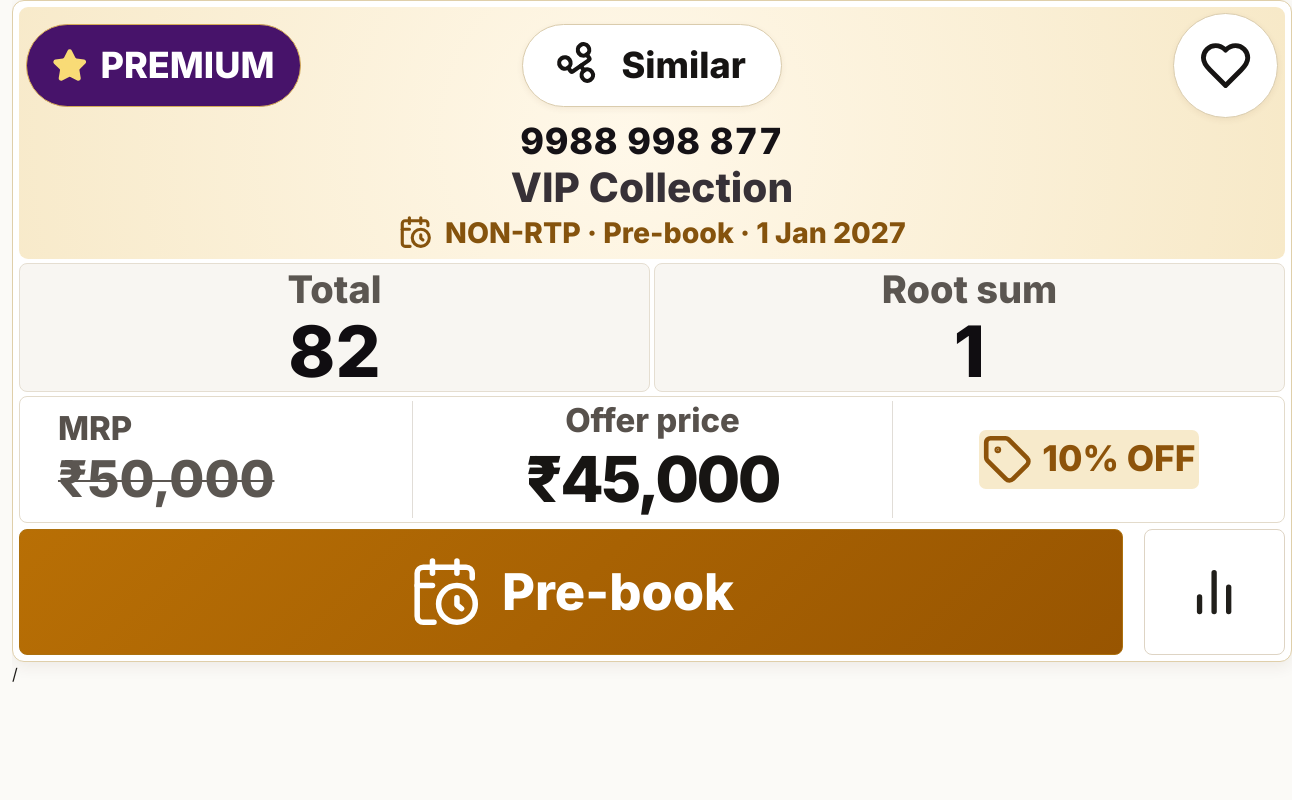
it: reference number card › keeps the NON_RTP purchase destination
Click the button "Pre-book" at x=571, y=592, box top-left (19, 529), bottom-right (1124, 655)
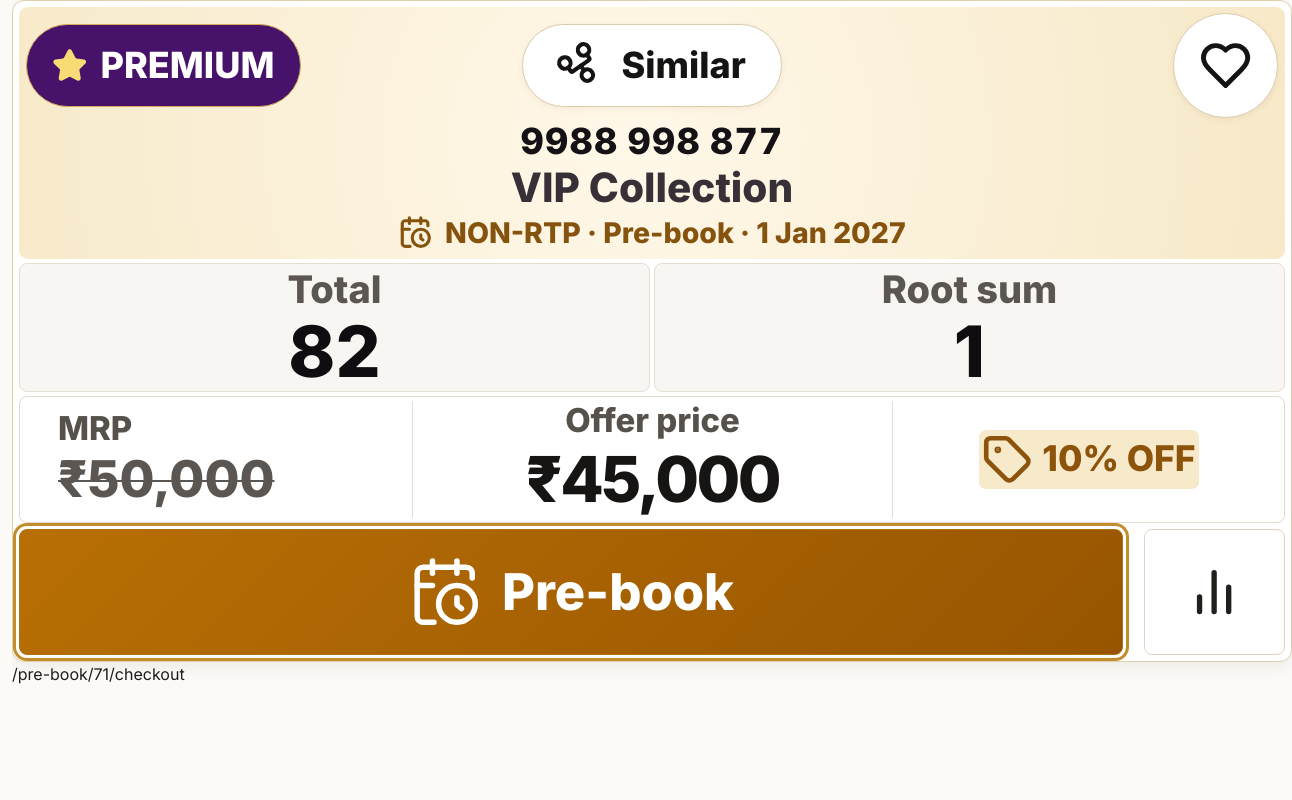
Now the text named "Location" reads "/pre-book/71/checkout", box top-left (12, 664), bottom-right (185, 684)
